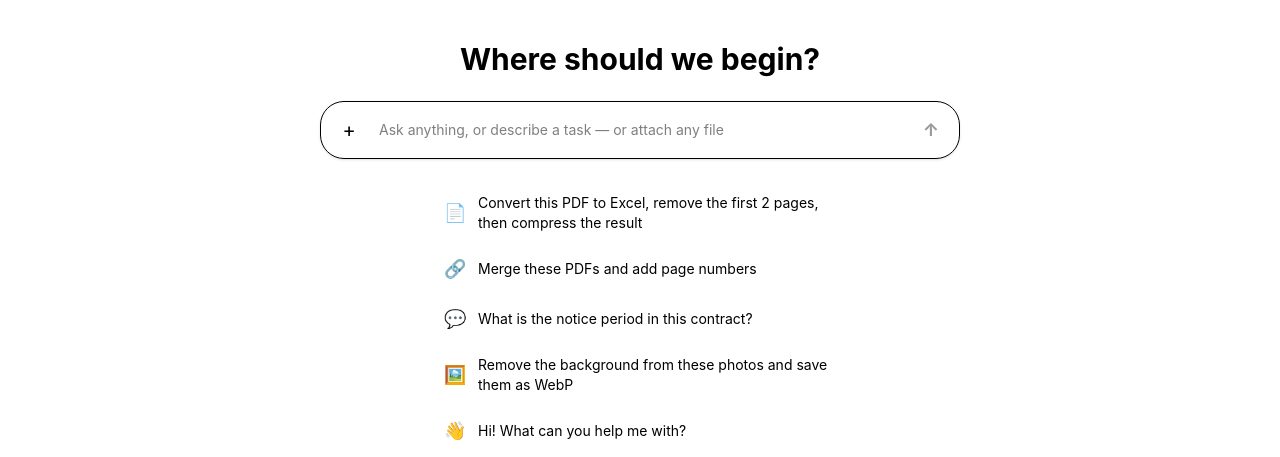
it: the assistant workspace › chats normally for small talk instead of saying it cannot do that
Step 1. Type "Hi! What can you help me with?" into the text box with test id "assistant-request" → (640, 130), box [375,110,905,150]
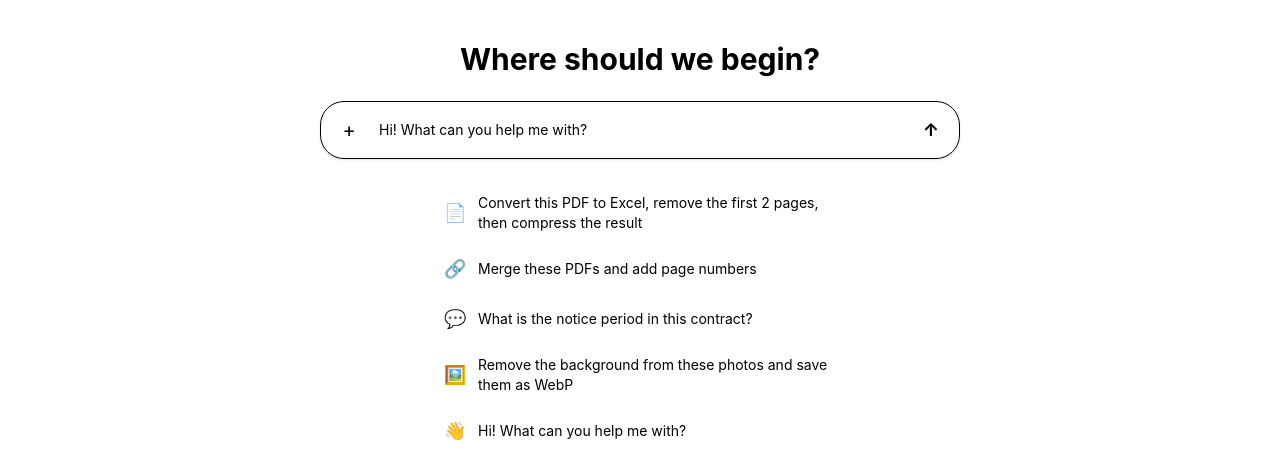
Step 2. Click the button named "send" → (931, 130), box [911,110,951,150]
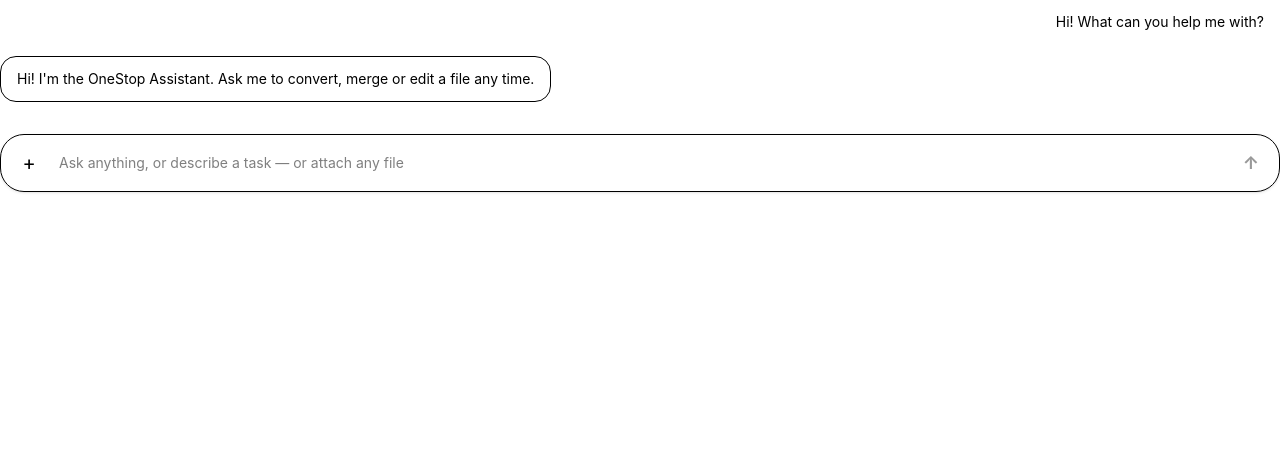
Now the text "Ask me to convert, merge or edit a file" is shown, box [17,70,534,87]
